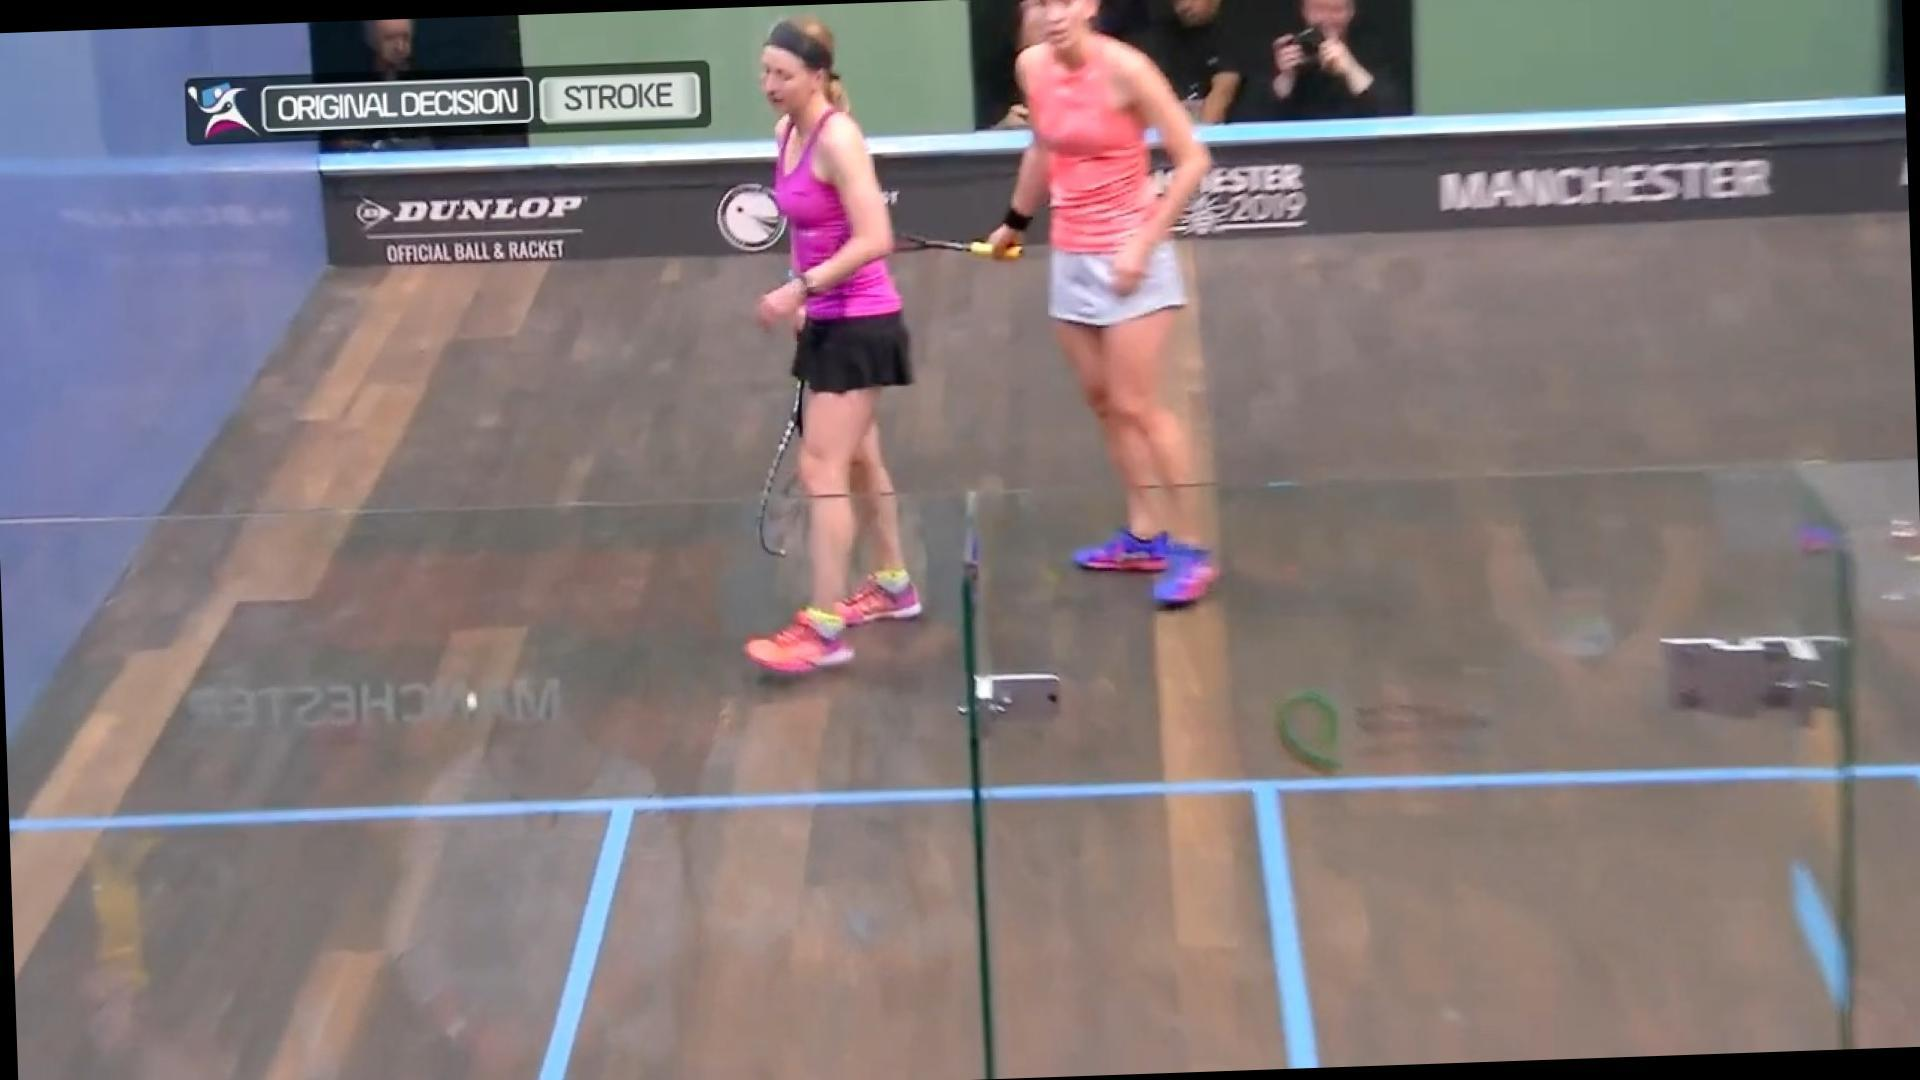Squash-Ball: (439, 669, 512, 748)
